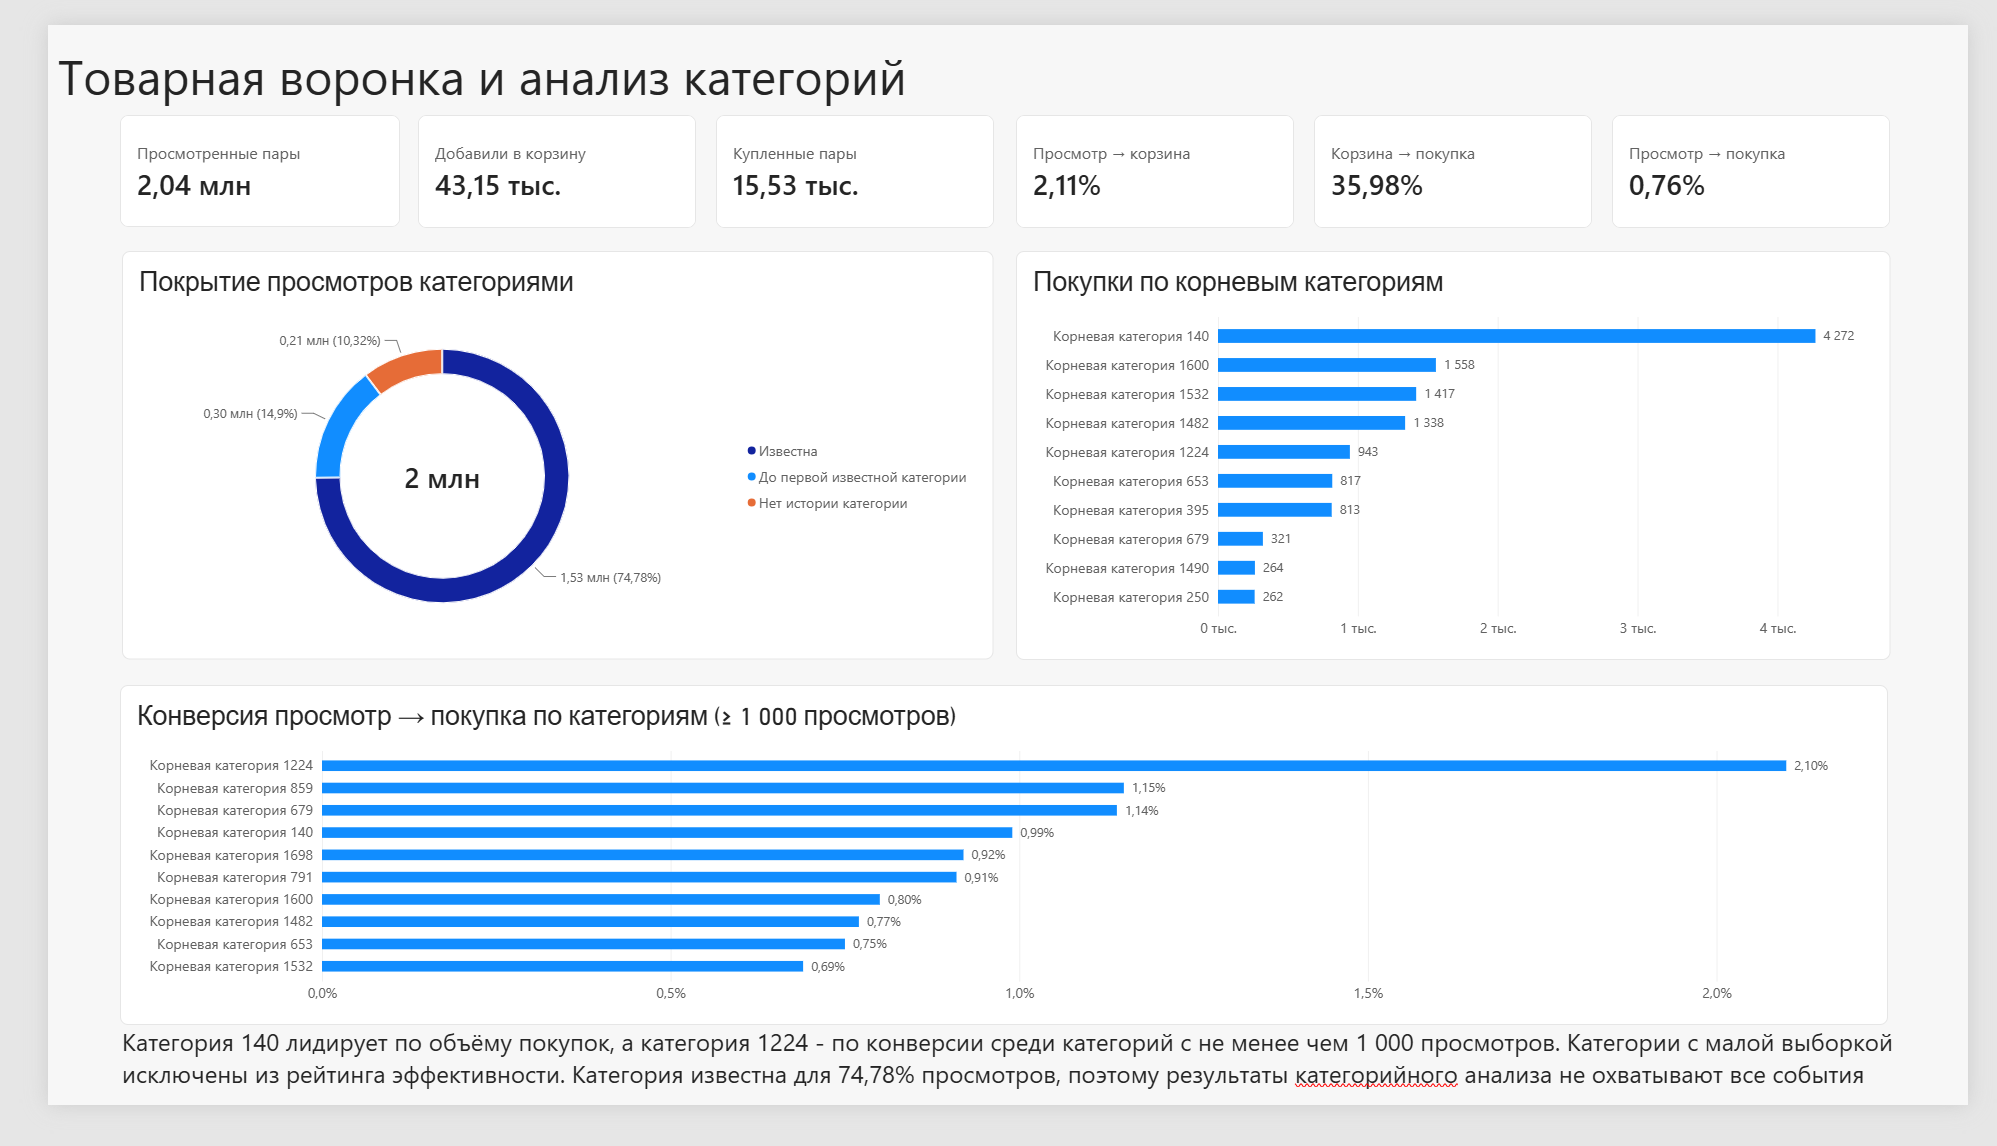

The dashboard page shown, as its layout file describes it:
{"tool":"powerbi","page":{"name":"Funnel & Categories","canvas":[1920,1080],"ordinal":3},"visuals":[{"type":"textbox","box":[10,18,950,96],"z":0},{"type":"cardVisual","fields":{"Data":["Sum(KPI Overview.viewed_pairs)"]},"box":[71.4,90,280,112.9],"z":1000},{"type":"cardVisual","fields":{"Data":["Sum(KPI Overview.carted_pairs)"]},"box":[370.7,89.7,278.3,113.3],"z":2000},{"type":"cardVisual","fields":{"Data":["Sum(KPI Overview.purchased_pairs)"]},"box":[667.3,89.7,278.3,113.3],"z":3000},{"type":"cardVisual","fields":{"Data":["Sum(KPI Overview.view_to_cart_rate)"]},"box":[967.3,89.7,278.3,113.3],"z":4000},{"type":"cardVisual","fields":{"Data":["Sum(KPI Overview.cart_to_purchase_rate)"]},"box":[1265.7,89.7,278.3,113.3],"z":5000},{"type":"cardVisual","fields":{"Data":["Sum(KPI Overview.view_to_purchase_rate)"]},"box":[1564,89.7,278.3,113.3],"z":6000},{"type":"donutChart","title":"Покрытие просмотров категориями","fields":{"Category":["Category Funnel.Статус категории"],"Y":["Sum(Category Funnel.viewed_pairs)"]},"box":[74.3,225.7,871.4,408.6],"z":6001},{"type":"clusteredBarChart","title":"Покупки по корневым категориям","fields":{"Category":["Category Funnel.root_category"],"Y":["Sum(Category Funnel.purchased_pairs)"]},"box":[968.2,225.5,874.4,408.9],"z":6002},{"type":"clusteredBarChart","title":"Конверсия просмотр → покупка по категориям (≥ 1 000 просмотров)","fields":{"Category":["Category Funnel.root_category"],"Y":["Sum(Category Funnel.view_to_purchase_rate)"]},"box":[72,660,1768,340],"z":6003},{"type":"textbox","box":[74,1000,1768,80],"z":6004}]}

Visuals, with their boxes in screenshot pixels (x1, y1, x2, y2), scaled from the page's 1920x1080 canvas onto the 1997x1146 screenshot:
textbox: {"x1": 10, "y1": 19, "x2": 998, "y2": 121}
cardVisual - Sum(KPI Overview.viewed_pairs): {"x1": 74, "y1": 96, "x2": 365, "y2": 215}
cardVisual - Sum(KPI Overview.carted_pairs): {"x1": 386, "y1": 95, "x2": 675, "y2": 215}
cardVisual - Sum(KPI Overview.purchased_pairs): {"x1": 694, "y1": 95, "x2": 984, "y2": 215}
cardVisual - Sum(KPI Overview.view_to_cart_rate): {"x1": 1006, "y1": 95, "x2": 1296, "y2": 215}
cardVisual - Sum(KPI Overview.cart_to_purchase_rate): {"x1": 1316, "y1": 95, "x2": 1606, "y2": 215}
cardVisual - Sum(KPI Overview.view_to_purchase_rate): {"x1": 1627, "y1": 95, "x2": 1916, "y2": 215}
"Покрытие просмотров категориями" donutChart: {"x1": 77, "y1": 239, "x2": 984, "y2": 673}
"Покупки по корневым категориям" clusteredBarChart: {"x1": 1007, "y1": 239, "x2": 1916, "y2": 673}
"Конверсия просмотр → покупка по категориям (≥ 1 000 просмотров)" clusteredBarChart: {"x1": 75, "y1": 700, "x2": 1914, "y2": 1061}
textbox: {"x1": 77, "y1": 1061, "x2": 1916, "y2": 1145}
